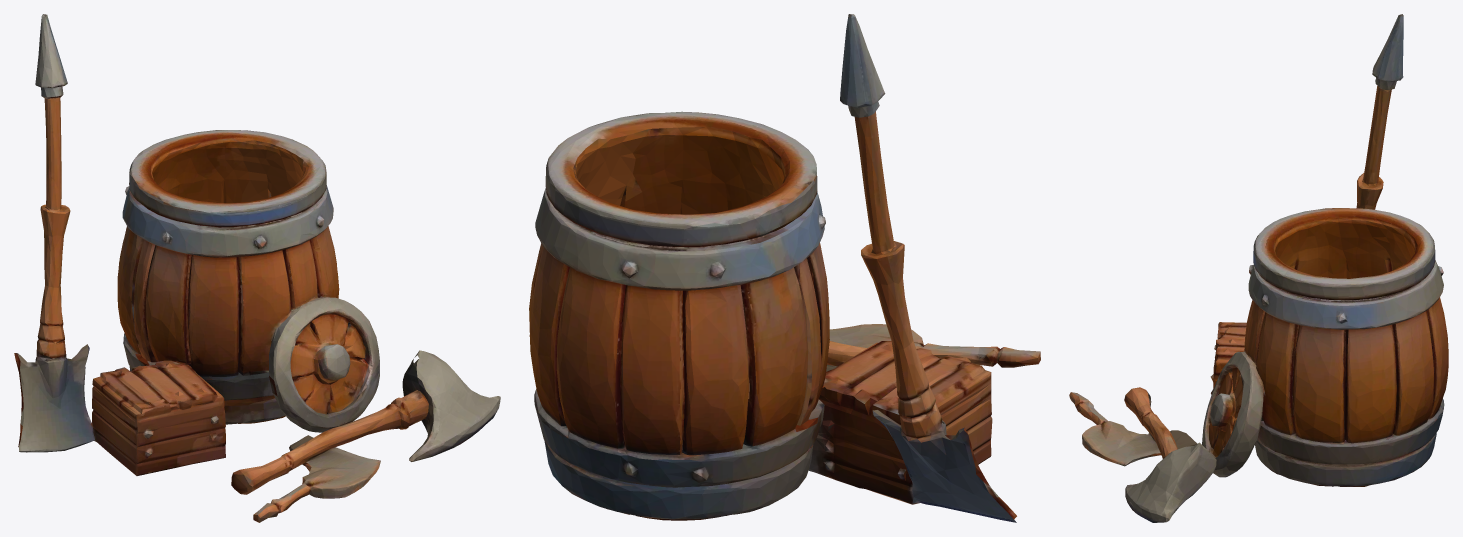
File: barrel_with_tools.glb
3 renders of one model, left to right at view 1: azimuth 30°, elevation 25°; view 2: azimuth 150°, elevation 25°; view 3: azimuth 270°, elevation 25°, orthographic. The views are drawn at different scales.
Size of the model in its own units: 1.97 by 1.84 by 1.7.
1 material, 1 textured.
